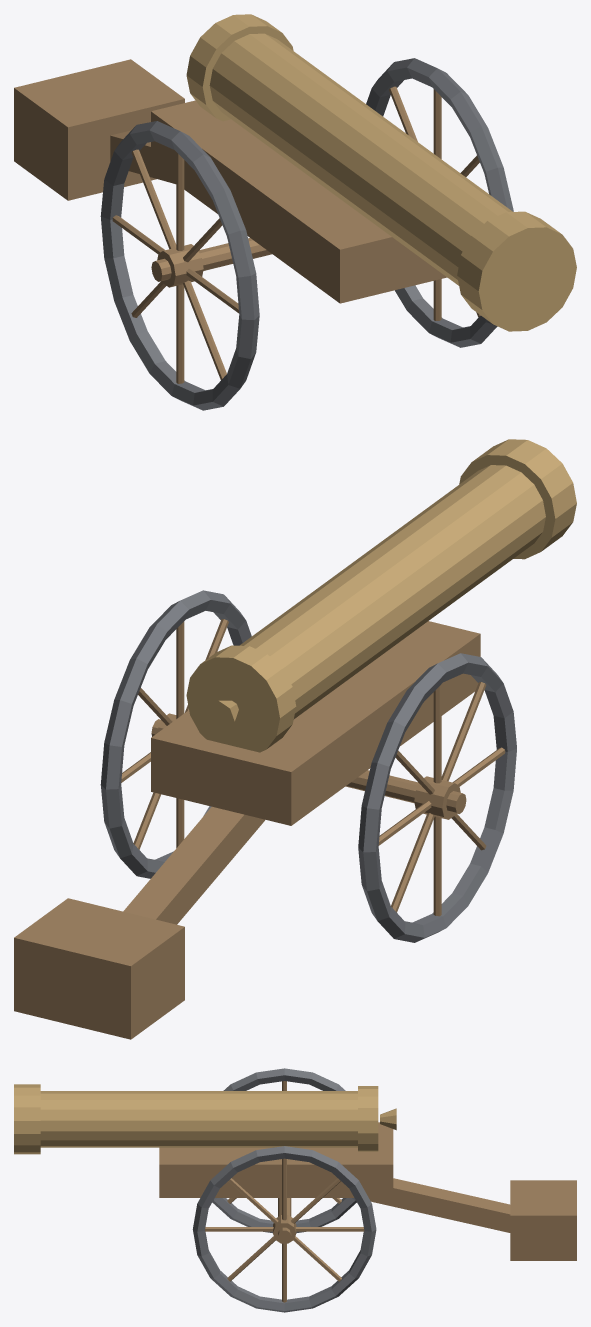
The model's file is canon_chariot.glb.
3 views of the same model, one above another, from view 1: azimuth 30°, elevation 25°; view 2: azimuth 150°, elevation 25°; view 3: azimuth 270°, elevation 25° (orthographic). The views are drawn at different scales.
Parts seen in each view (by area): view 1: canon_chariot; view 2: canon_chariot; view 3: canon_chariot.
Boxes of the visible parts, box(x1,y1,x2,y2) form: canon_chariot: box(14, 14, 576, 410); canon_chariot: box(14, 439, 576, 1039); canon_chariot: box(14, 1068, 576, 1312).
Size of the model in its own units: 1.3 by 1.23 by 3.37.
